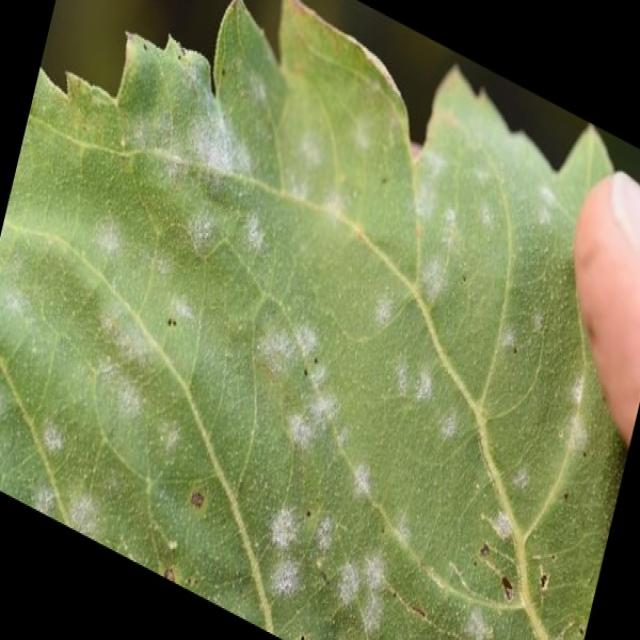Powdery Mildew: (1, 0, 633, 637)
